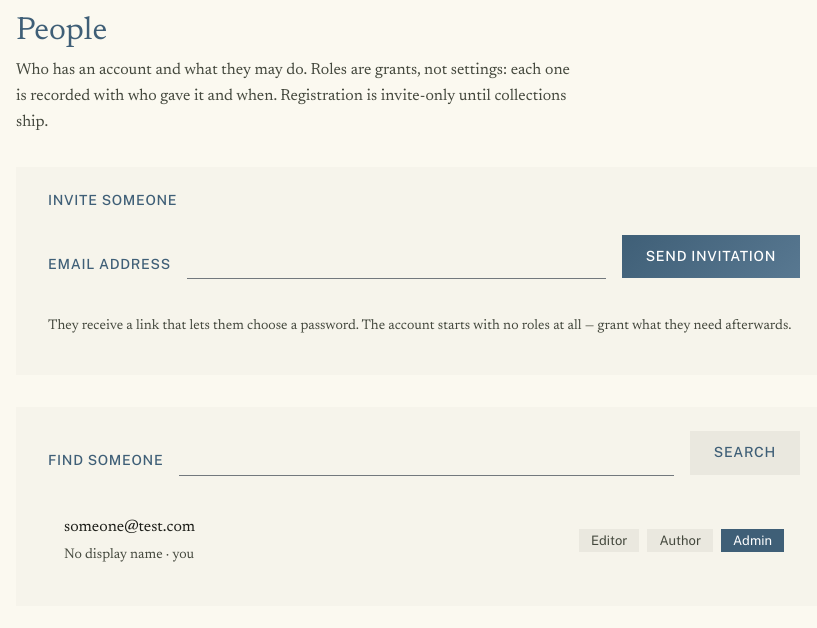
Test: AdminUsers › explains a refused self-demotion rather than reporting a failure
Click the button "Admin". click: click(752, 540)
box: [721,529,784,552]
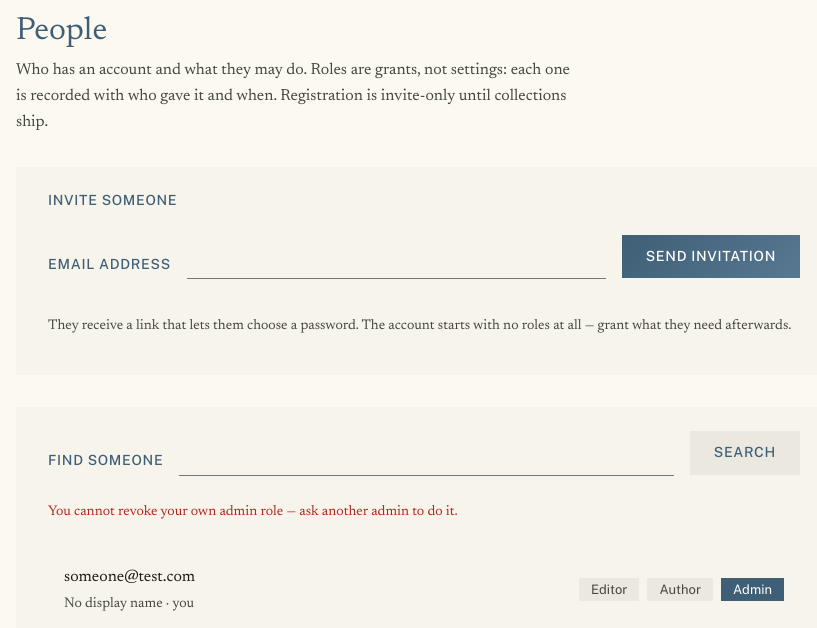
Expected: the message shows "cannot revoke your own admin", [48,505,458,519]
